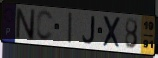8: (124, 17, 139, 50)
C: (35, 9, 54, 42)
I: (67, 11, 73, 46)
J: (81, 15, 96, 46)
N: (15, 6, 36, 42)
X: (102, 14, 122, 50)
